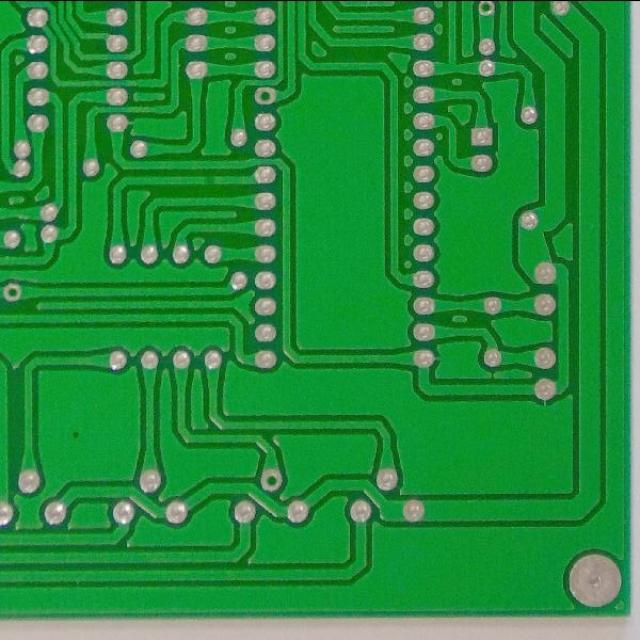Missing_Hole: (256, 466, 285, 495), (252, 84, 278, 107), (1, 281, 24, 304), (476, 0, 496, 17)
